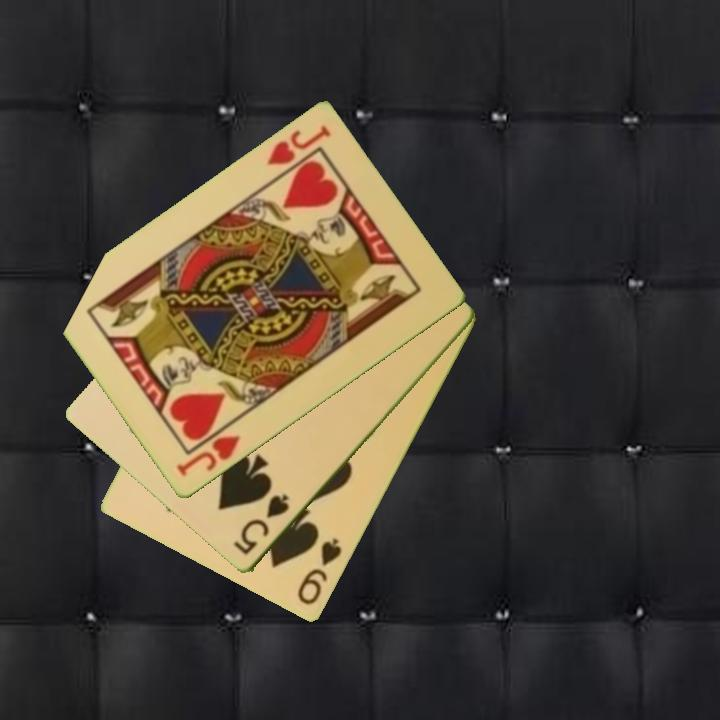5s: (230, 490, 293, 559)
9s: (294, 535, 345, 609)
Jh: (172, 418, 244, 481), (263, 122, 334, 169)
